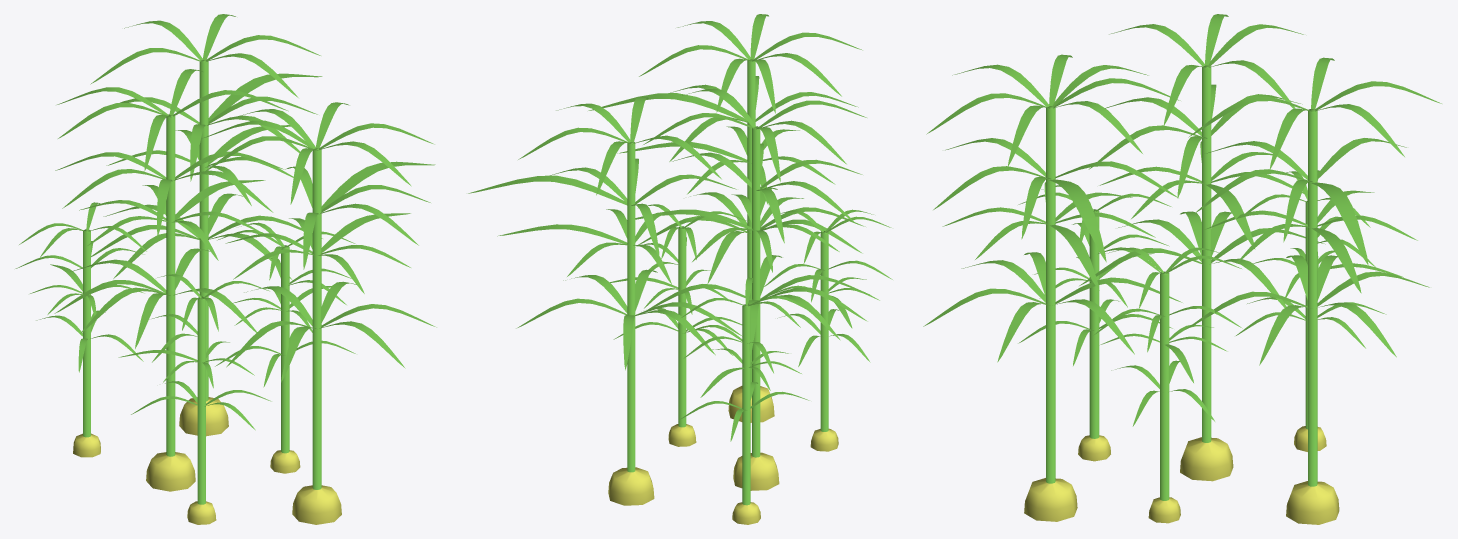
File: model_madurogengibre_01.fbx
3 renders of one model, left to right at view 1: azimuth 30°, elevation 25°; view 2: azimuth 150°, elevation 25°; view 3: azimuth 270°, elevation 25°, orthographic. The views are drawn at different scales.
Visible parts, largest first — view 1: gengibre maduro; view 2: gengibre maduro; view 3: gengibre maduro.
Part boxes in pixels (left/top/right/bottom): gengibre maduro: left=15, top=14, right=436, bottom=524; gengibre maduro: left=468, top=14, right=892, bottom=524; gengibre maduro: left=923, top=14, right=1441, bottom=524.
Bounding box in the file's own units: 1.61 × 1.77 × 1.98.
